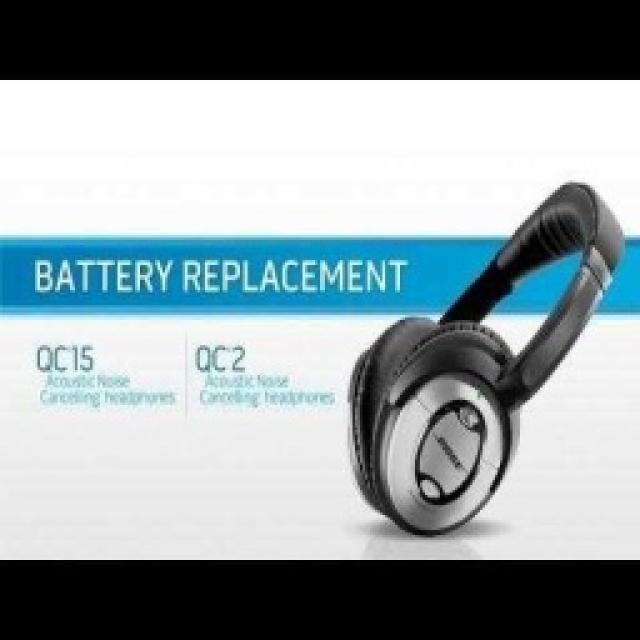headphones: (345, 177, 625, 535)
